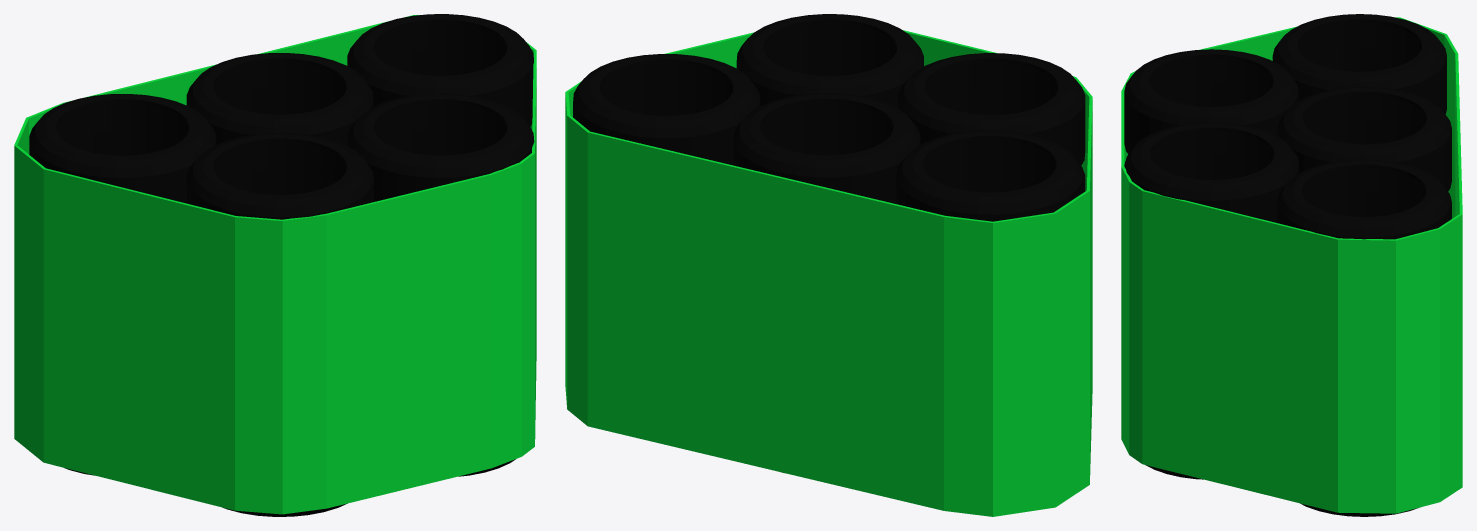
The model's file is Tire barier.fbx.
3 views of the same model, side by side, from view 1: azimuth 30°, elevation 25°; view 2: azimuth 150°, elevation 25°; view 3: azimuth 270°, elevation 25° (orthographic). The views are drawn at different scales.
Parts seen in each view (by area): view 1: tire barieer; view 2: tire barieer; view 3: tire barieer.
Boxes of the visible parts, x1,y1,x2,y2 form: tire barieer: (14, 14, 536, 516); tire barieer: (565, 14, 1092, 516); tire barieer: (1121, 14, 1462, 516).
Bounding box in the file's own units: 491 × 301 × 316.
